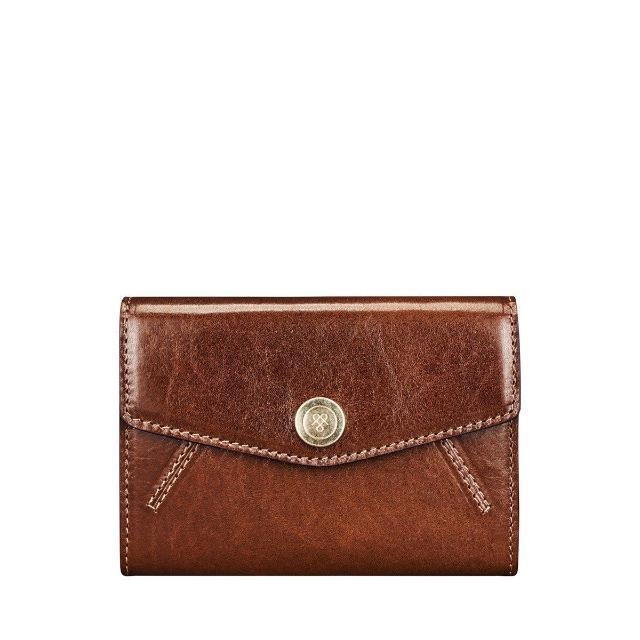wallet: (106, 286, 528, 586)
